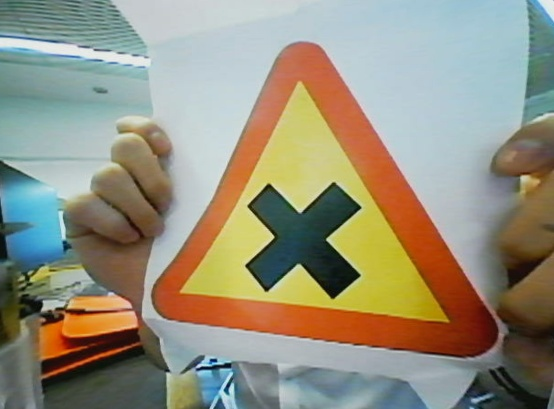junction: (163, 52, 509, 362)
